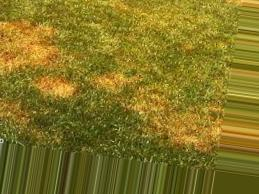patch: (142, 98, 210, 149), (3, 24, 52, 68), (87, 77, 134, 94), (41, 77, 67, 96)
